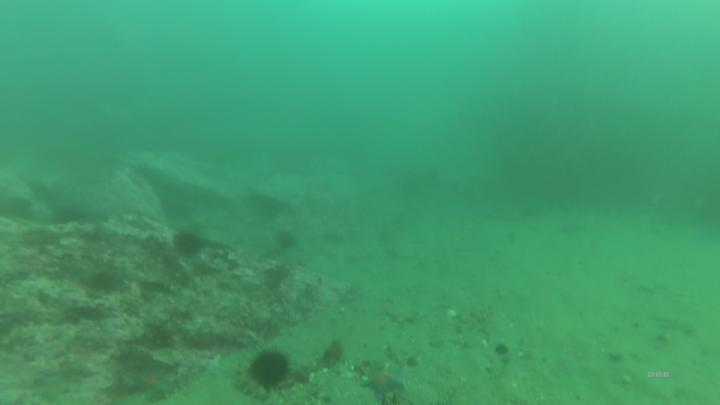echinus: (249, 342, 298, 393), (172, 226, 204, 261)
starfish: (356, 360, 410, 403), (131, 361, 175, 398), (38, 362, 74, 401)
